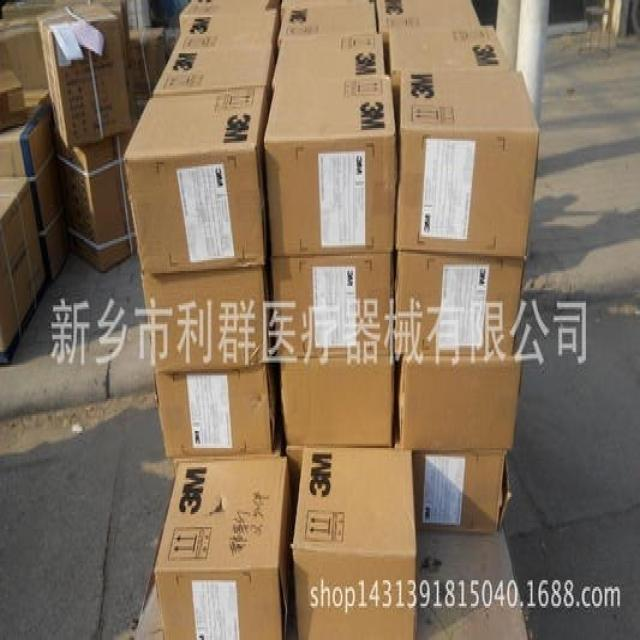box: (124, 87, 271, 275), (397, 70, 539, 261), (153, 459, 294, 638), (264, 75, 397, 257), (292, 447, 417, 638), (389, 26, 514, 175), (141, 245, 274, 370), (154, 341, 281, 457), (37, 2, 134, 147), (400, 338, 523, 451), (1, 88, 71, 286), (396, 250, 525, 357), (54, 118, 140, 274), (271, 253, 395, 358), (280, 358, 393, 447), (0, 176, 47, 365), (153, 46, 276, 116), (413, 452, 509, 533), (376, 0, 483, 72), (174, 10, 281, 69), (272, 37, 386, 92), (278, 7, 378, 53), (179, 1, 269, 33), (0, 70, 28, 131)
